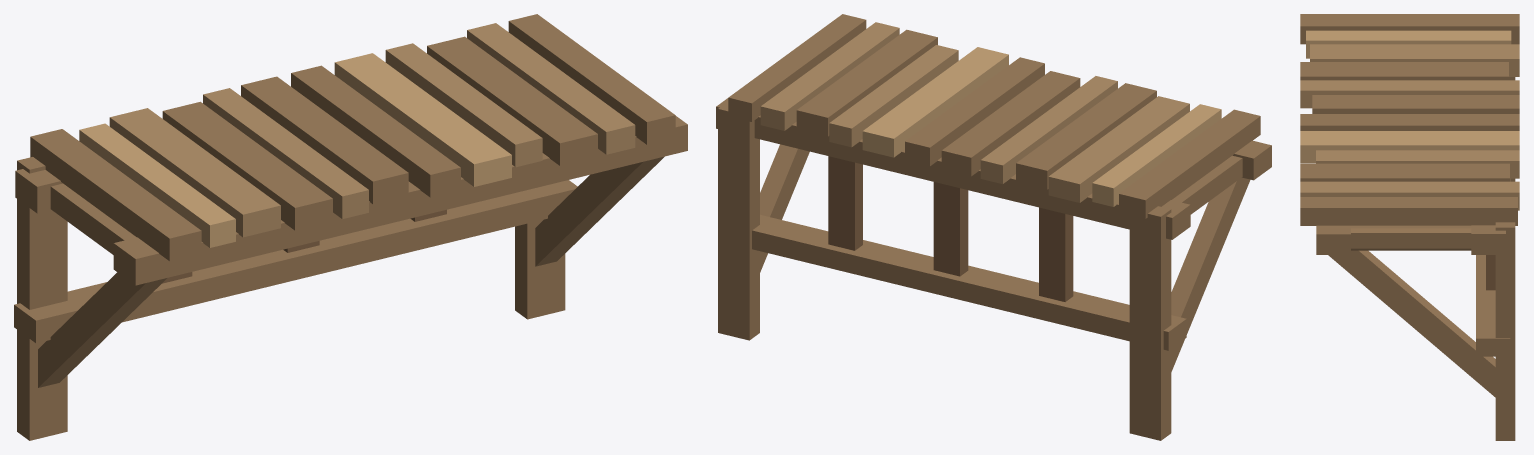
File: SM_Bridge_Wooden_02_B.fbx
The picture shows the model from 3 angles, left to right: view 1: azimuth 30°, elevation 25°; view 2: azimuth 150°, elevation 25°; view 3: azimuth 270°, elevation 25°; orthographic projection. The views are drawn at different scales.
Parts seen in each view (by area): view 1: pCube162; view 2: pCube162; view 3: pCube162.
Part boxes in pixels (bbox=[...]): pCube162: bbox=[14, 14, 687, 440]; pCube162: bbox=[716, 14, 1271, 440]; pCube162: bbox=[1300, 14, 1519, 440].
Bounding box in the file's own units: 203 × 102 × 88.81.
Materials: 1 (1 with a texture image).
